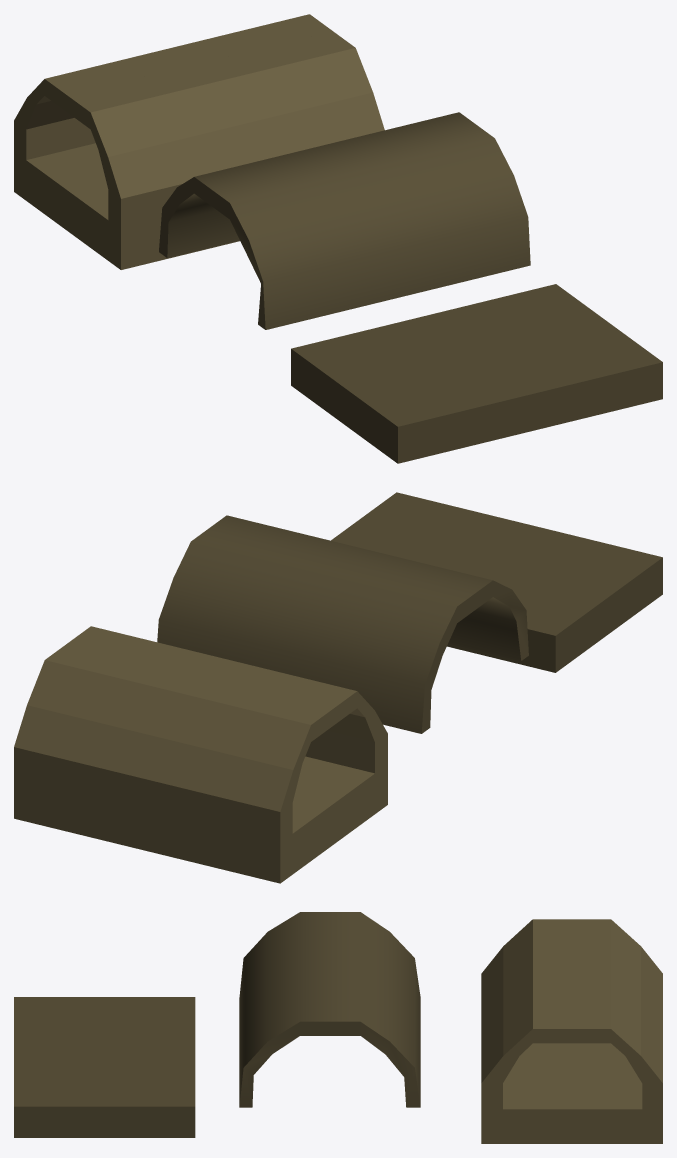
Rendered from NewTunnel.fbx.
3 views of the same model, one above another, from view 1: azimuth 30°, elevation 25°; view 2: azimuth 150°, elevation 25°; view 3: azimuth 270°, elevation 25° (orthographic). The views are drawn at different scales.
Parts seen in each view (by area): view 1: pasted__Tunnel5, pasted__pCube19, pasted__pCube20; view 2: pasted__Tunnel5, pasted__pCube19, pasted__pCube20; view 3: pasted__Tunnel5, pasted__pCube20, pasted__pCube19.
Part boxes in pixels (x1=…): pasted__Tunnel5: x1=14, y1=14, x2=384, y2=269; pasted__pCube19: x1=159, y1=112, x2=530, y2=329; pasted__pCube20: x1=291, y1=284, x2=662, y2=463; pasted__Tunnel5: x1=14, y1=626, x2=387, y2=883; pasted__pCube19: x1=157, y1=515, x2=528, y2=733; pasted__pCube20: x1=331, y1=492, x2=662, y2=672; pasted__Tunnel5: x1=481, y1=919, x2=662, y2=1143; pasted__pCube20: x1=14, y1=997, x2=195, y2=1137; pasted__pCube19: x1=239, y1=912, x2=420, y2=1107.
Size of the model in its own units: 7.61 by 3.92 by 18.74.
